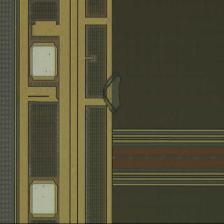PARTICLE: (102, 71, 127, 116)
